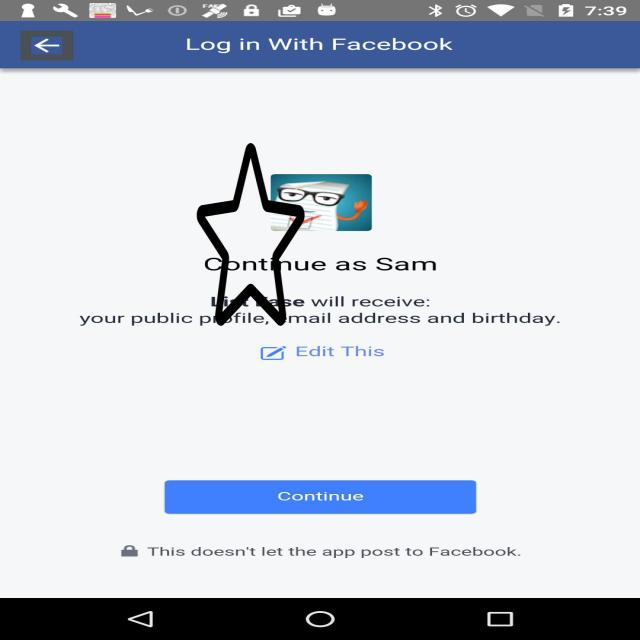forced continuity: (196, 139, 304, 330)
